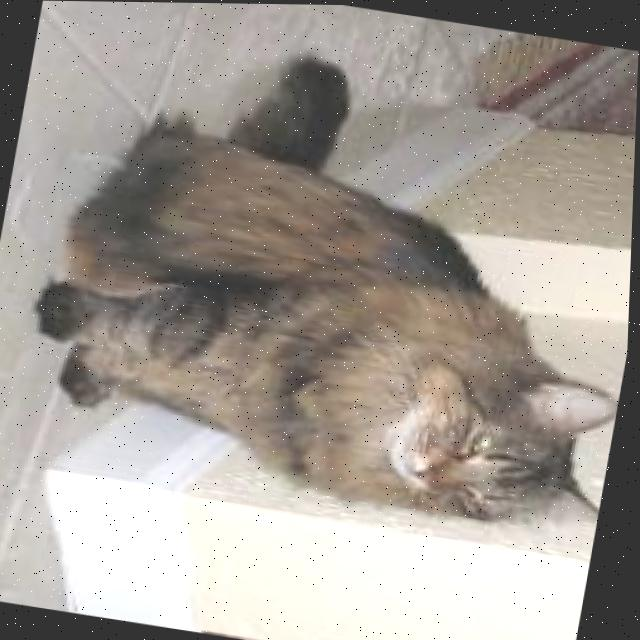Maine Coon: (5, 11, 640, 543)
